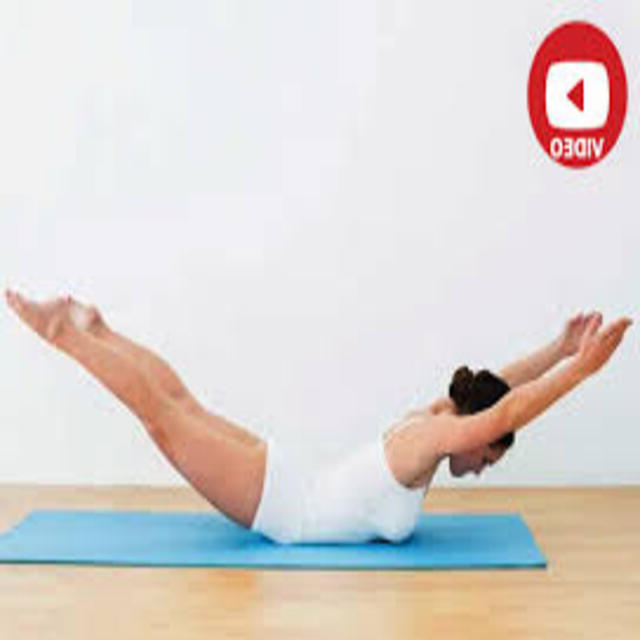Locust_Pose: (1, 279, 633, 548)
